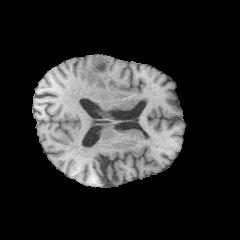glioma: (85, 57, 112, 86)
